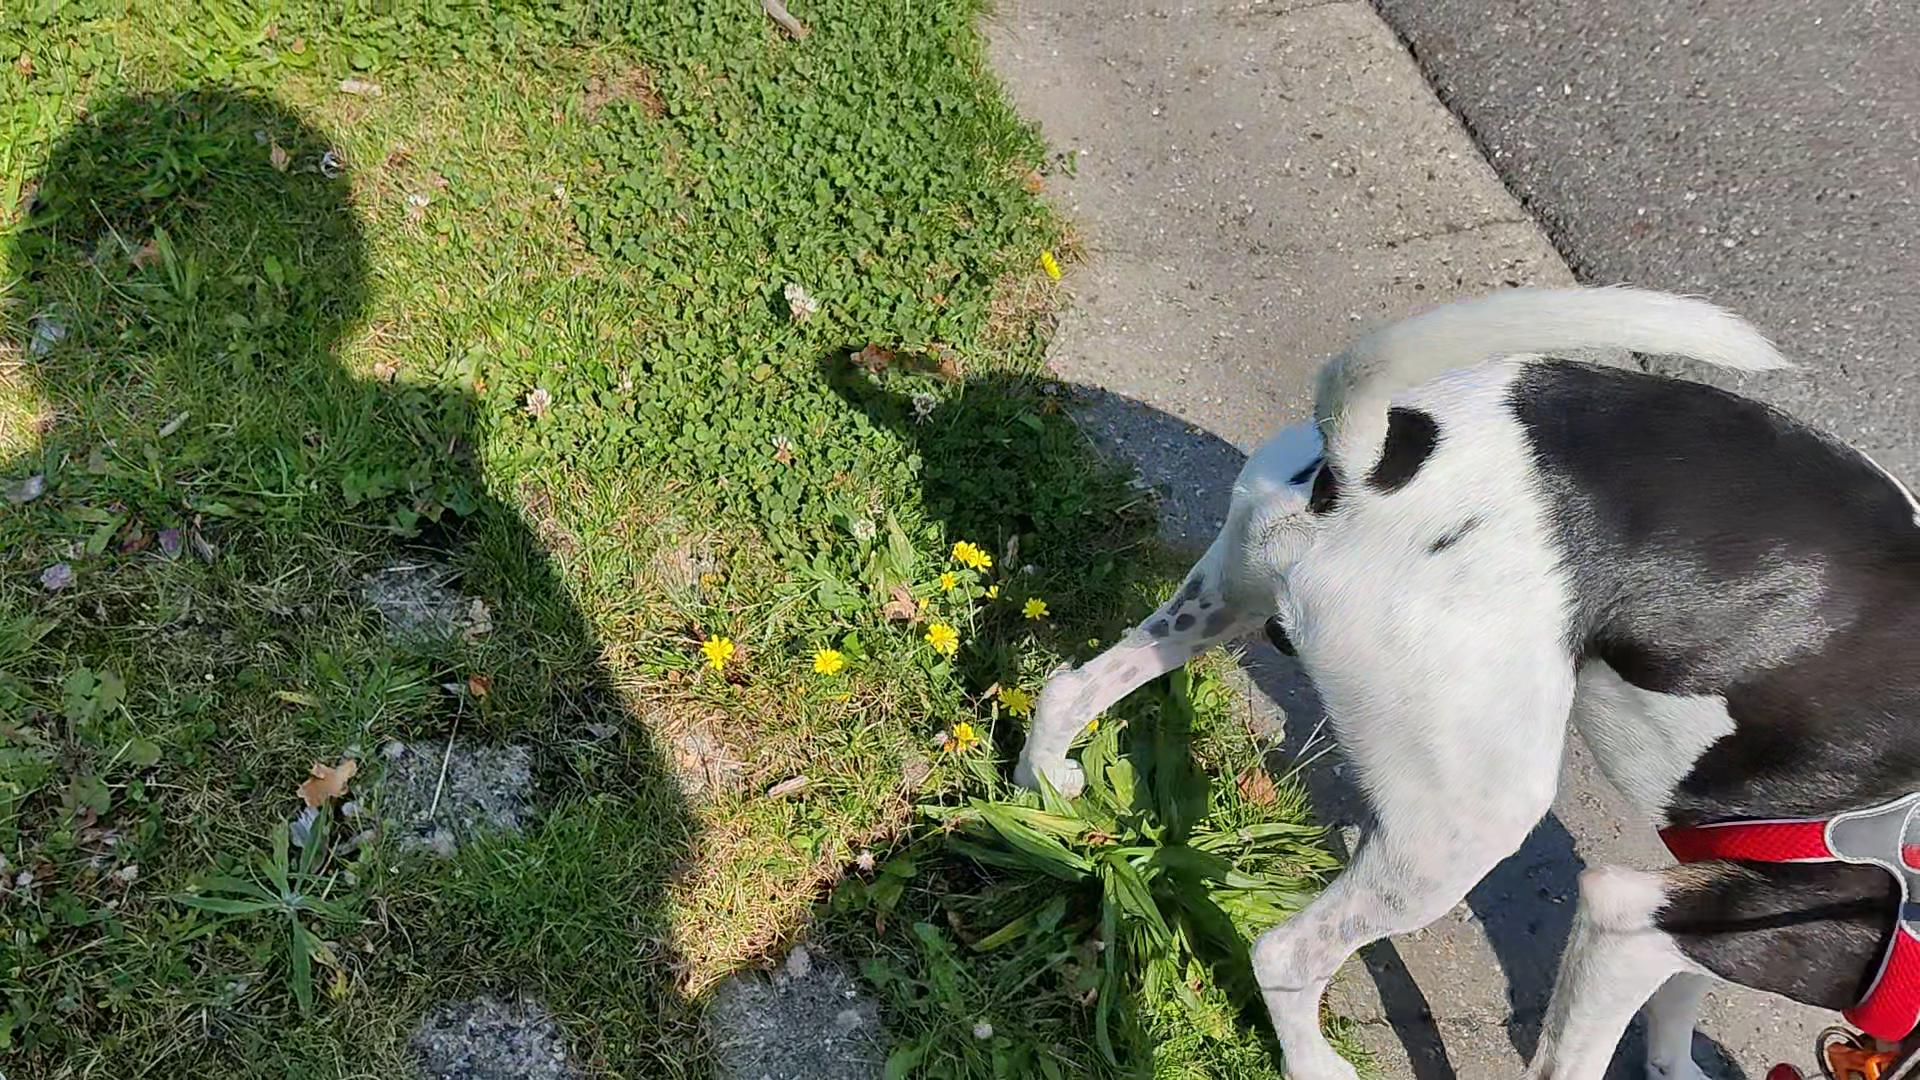Dog: (998, 273, 1919, 1079)
